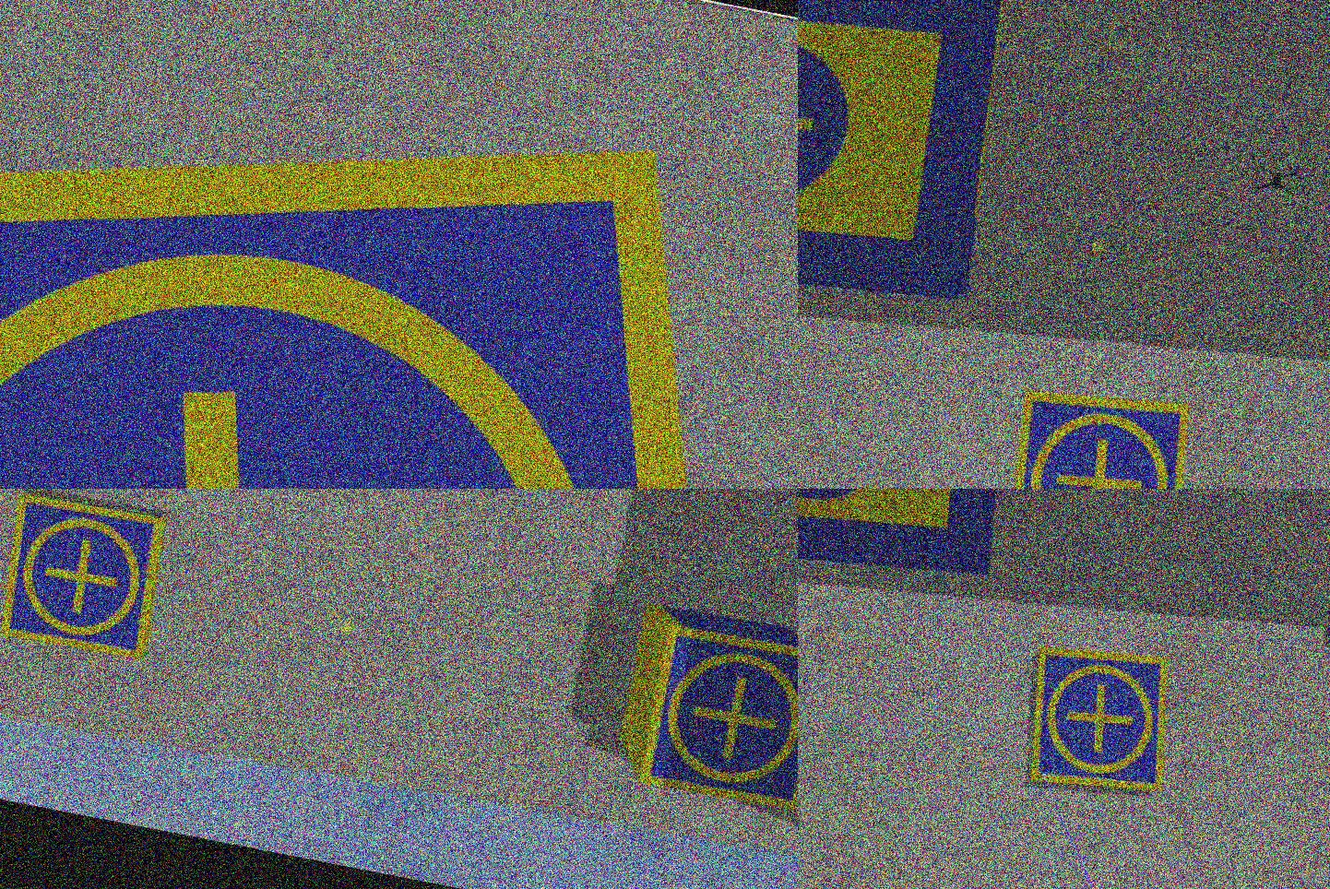large_base: (798, 1, 1027, 352)
small_base: (1, 1, 798, 490), (635, 620, 798, 817), (1, 490, 174, 667), (1012, 634, 1185, 810), (992, 369, 1208, 490)
